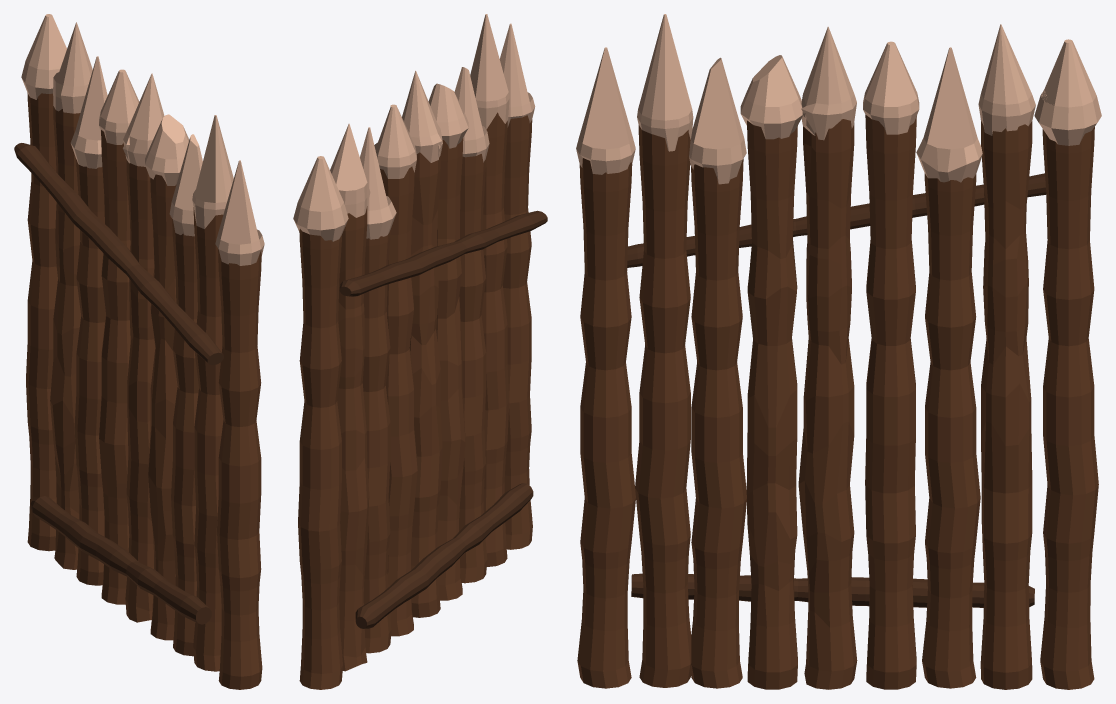
File: Fence_Wood_2.fbx
3 views of the same model, side by side, from view 1: azimuth 30°, elevation 25°; view 2: azimuth 150°, elevation 25°; view 3: azimuth 270°, elevation 25° (orthographic). The views are drawn at different scales.
Visible parts, largest first — view 1: Cylinder.398, Cylinder.384, Cylinder.385, Cylinder.389, Cylinder.387, Cylinder.401, Cylinder.388, Cylinder.399, Cylinder.400, Cylinder.402, Cylinder.403, Cylinder.390 (+8 smaller); view 2: Cylinder.384, Cylinder.401, Cylinder.387, Cylinder.385, Cylinder.398, Cylinder.399, Cylinder.400, Cylinder.388, Cylinder.389, Cylinder.403, Cylinder.402, Cylinder.393 (+8 smaller); view 3: Cylinder.387, Cylinder.389, Cylinder.401, Cylinder.384, Cylinder.385, Cylinder.399, Cylinder.398, Cylinder.400, Cylinder.388, Cylinder.394, Cylinder.392, Cylinder.390 (+8 smaller).
Part boxes in pixels (x1,y1,x2,y2): Cylinder.398: [217, 249, 262, 689]; Cylinder.384: [26, 93, 57, 551]; Cylinder.385: [99, 130, 130, 604]; Cylinder.389: [193, 207, 223, 671]; Cylinder.387: [125, 160, 155, 622]; Cylinder.401: [50, 106, 80, 569]; Cylinder.388: [74, 159, 105, 585]; Cylinder.399: [148, 174, 177, 640]; Cylinder.400: [171, 219, 198, 656]; Cylinder.402: [14, 143, 223, 365]; Cylinder.403: [30, 496, 211, 624]; Cylinder.390: [215, 160, 264, 265]; Cylinder.384: [298, 229, 342, 689]; Cylinder.401: [337, 206, 369, 671]; Cylinder.387: [409, 152, 442, 617]; Cylinder.385: [380, 166, 417, 636]; Cylinder.398: [503, 115, 532, 549]; Cylinder.399: [436, 138, 465, 600]; Cylinder.400: [459, 154, 487, 583]; Cylinder.388: [362, 230, 391, 653]; Cylinder.389: [481, 112, 509, 566]; Cylinder.403: [355, 483, 533, 628]; Cylinder.402: [339, 210, 547, 296]; Cylinder.393: [293, 156, 348, 241]; Cylinder.387: [798, 119, 857, 689]; Cylinder.389: [635, 125, 691, 687]; Cylinder.401: [980, 121, 1032, 689]; Cylinder.384: [1040, 127, 1098, 689]; Cylinder.385: [865, 114, 916, 689]; Cylinder.399: [746, 120, 797, 689]; Cylinder.398: [577, 158, 635, 688]; Cylinder.400: [691, 159, 746, 688]; Cylinder.388: [922, 173, 980, 688]; Cylinder.394: [916, 47, 982, 182]; Cylinder.392: [689, 57, 746, 184]; Cylinder.390: [576, 47, 635, 174].
Size of the model in its own units: 130 by 1079 by 774.
